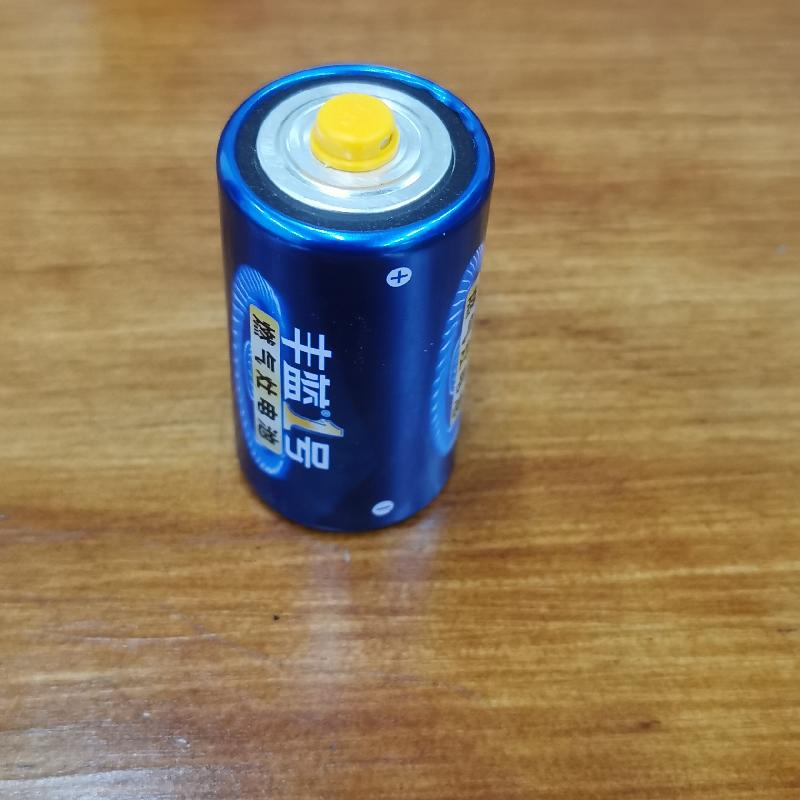battery: (210, 57, 496, 536)
